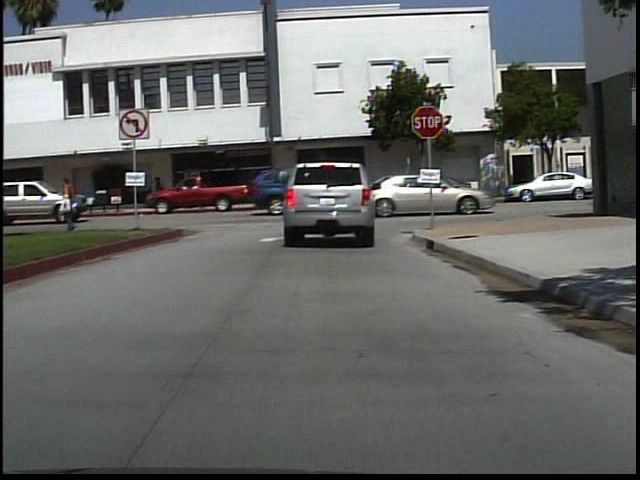person: (55, 173, 91, 235), (285, 161, 314, 235), (170, 173, 189, 209), (152, 172, 170, 203)
